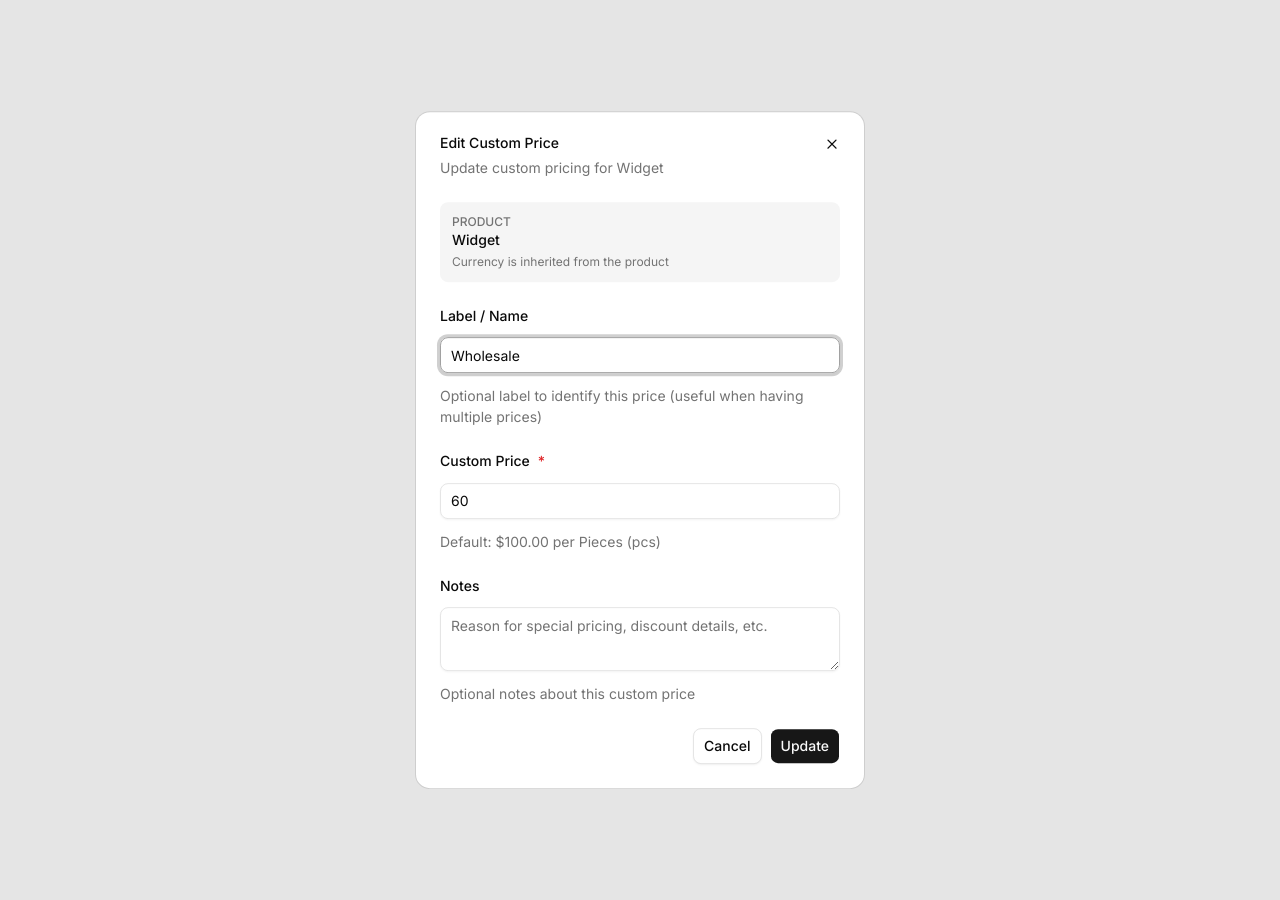
CustomPriceModal — states (T21, AC-16, AC-31) › not-found: shows a destructive Alert and keeps the dialog open with the entered value
Replace the text in the field labelled "Custom Price *" with "75" at point(640, 501), box x1=440 y1=483 x2=840 y2=519
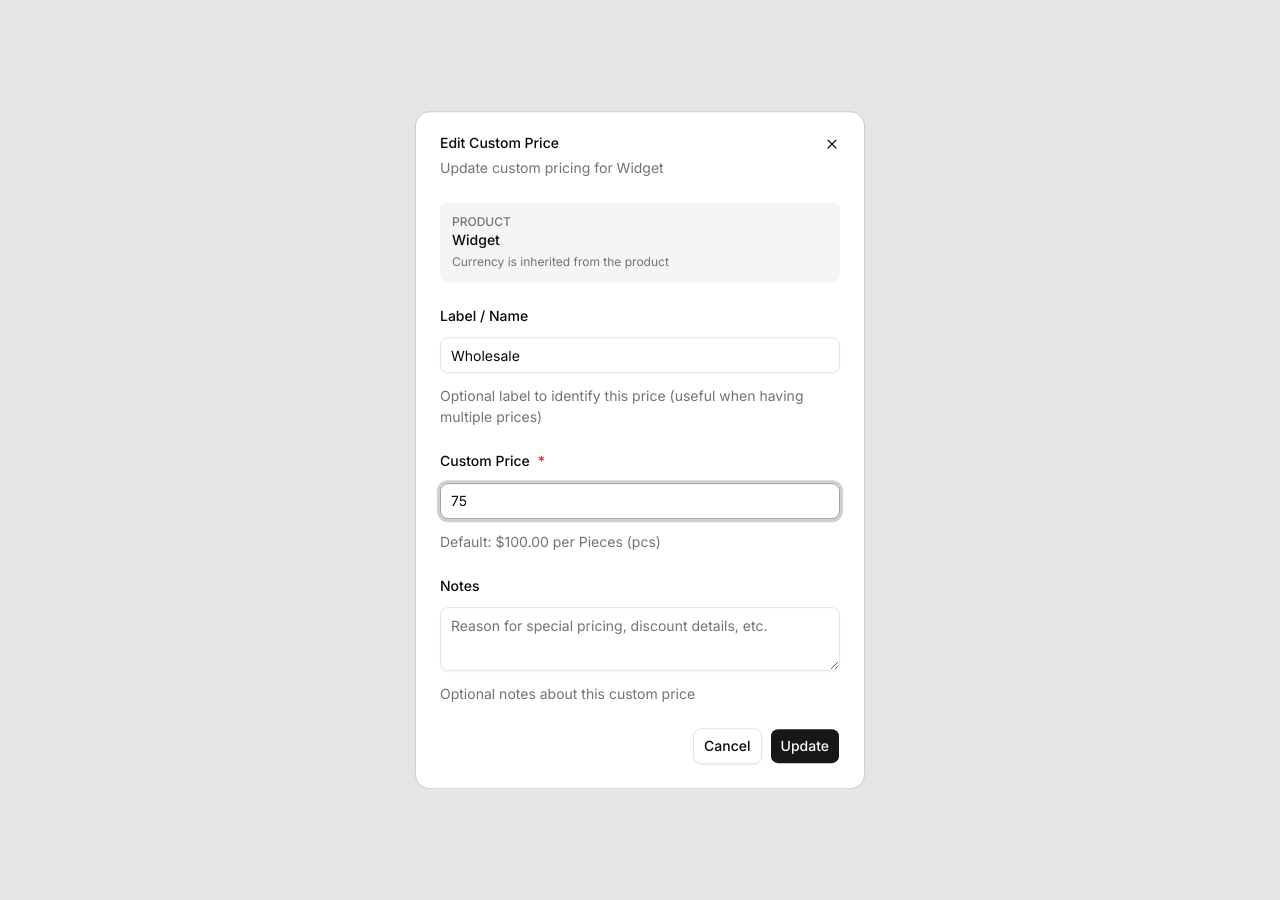
Click the button "Update" at point(805, 746), box x1=770 y1=728 x2=840 y2=764
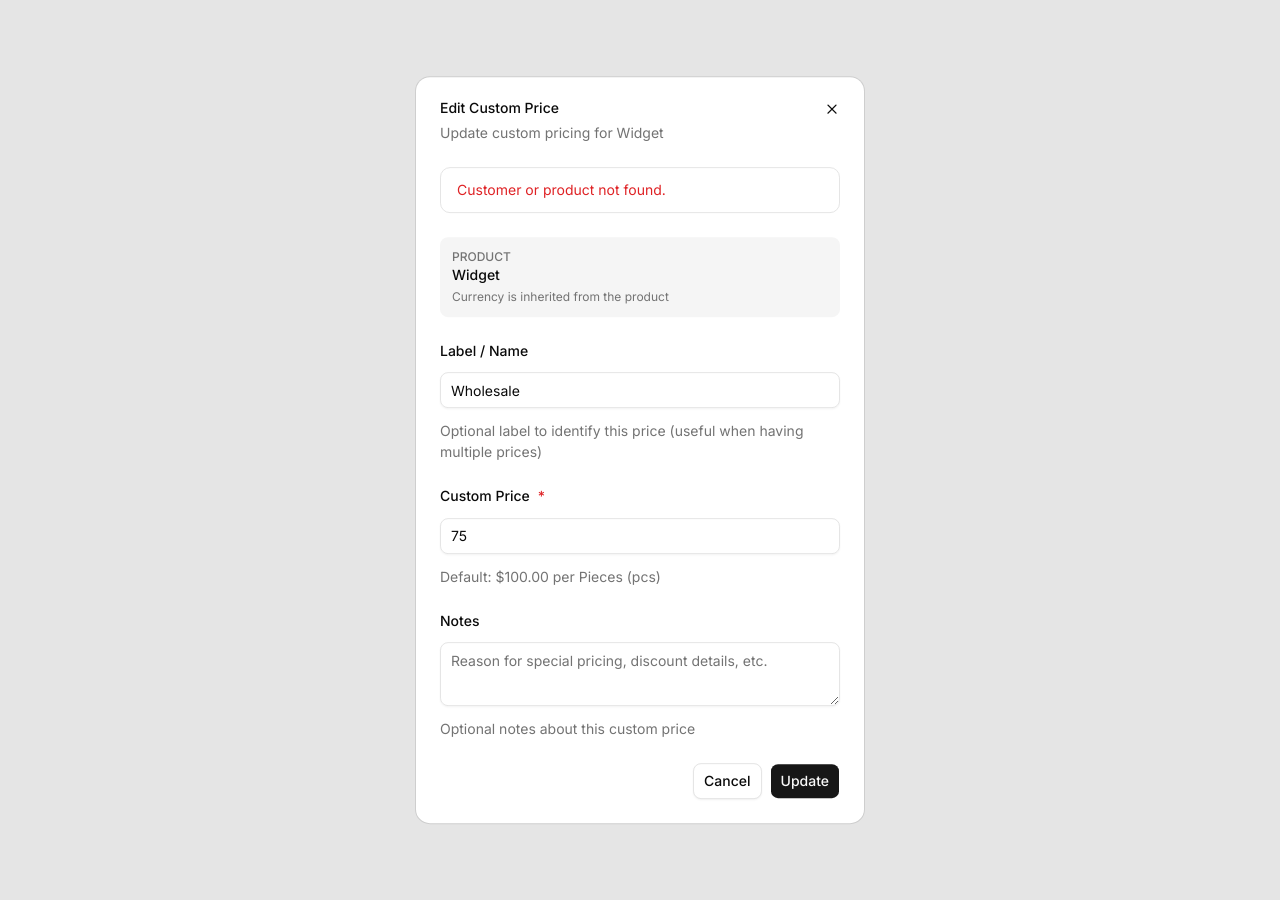
Expected: the text "Customer or product not found." is shown, x1=457 y1=181 x2=666 y2=198
